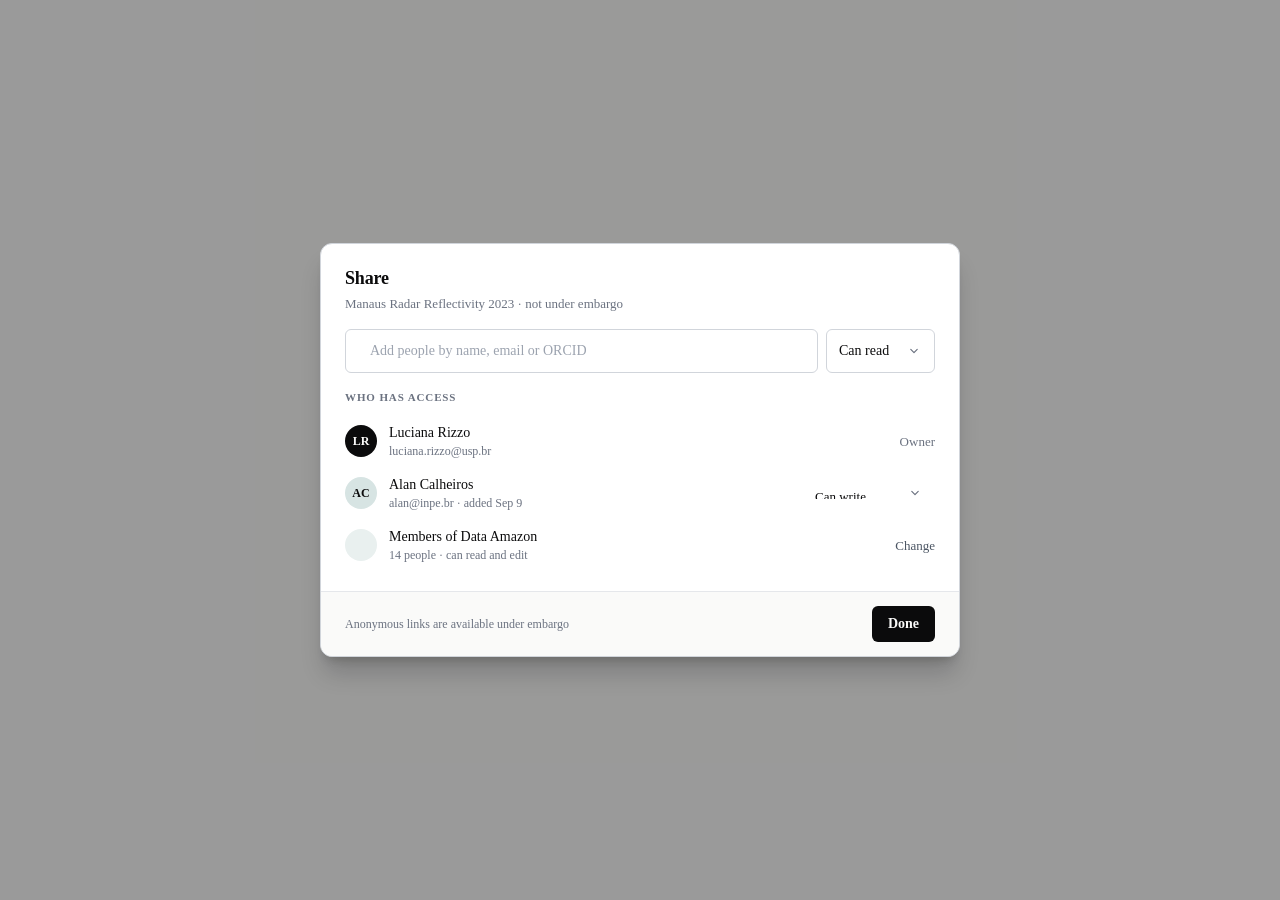
Test case: ShareDialog › a refused change is shown in the members dialog
Click the button with aria-label "Change what members of Data Amazon can do": {"x": 915, "y": 545} [895,536,935,555]
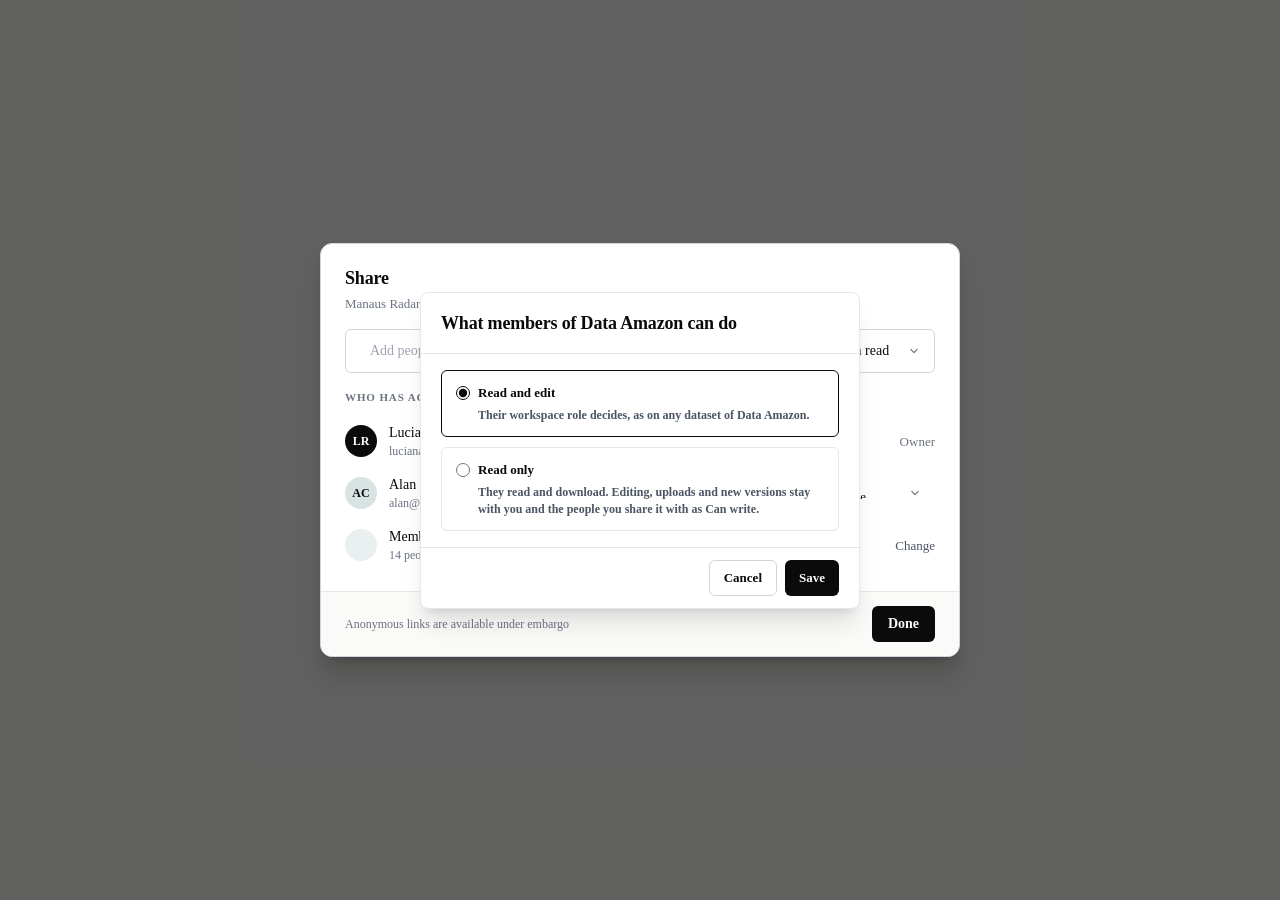
Click the button "Save": {"x": 812, "y": 578} [785,560,839,596]
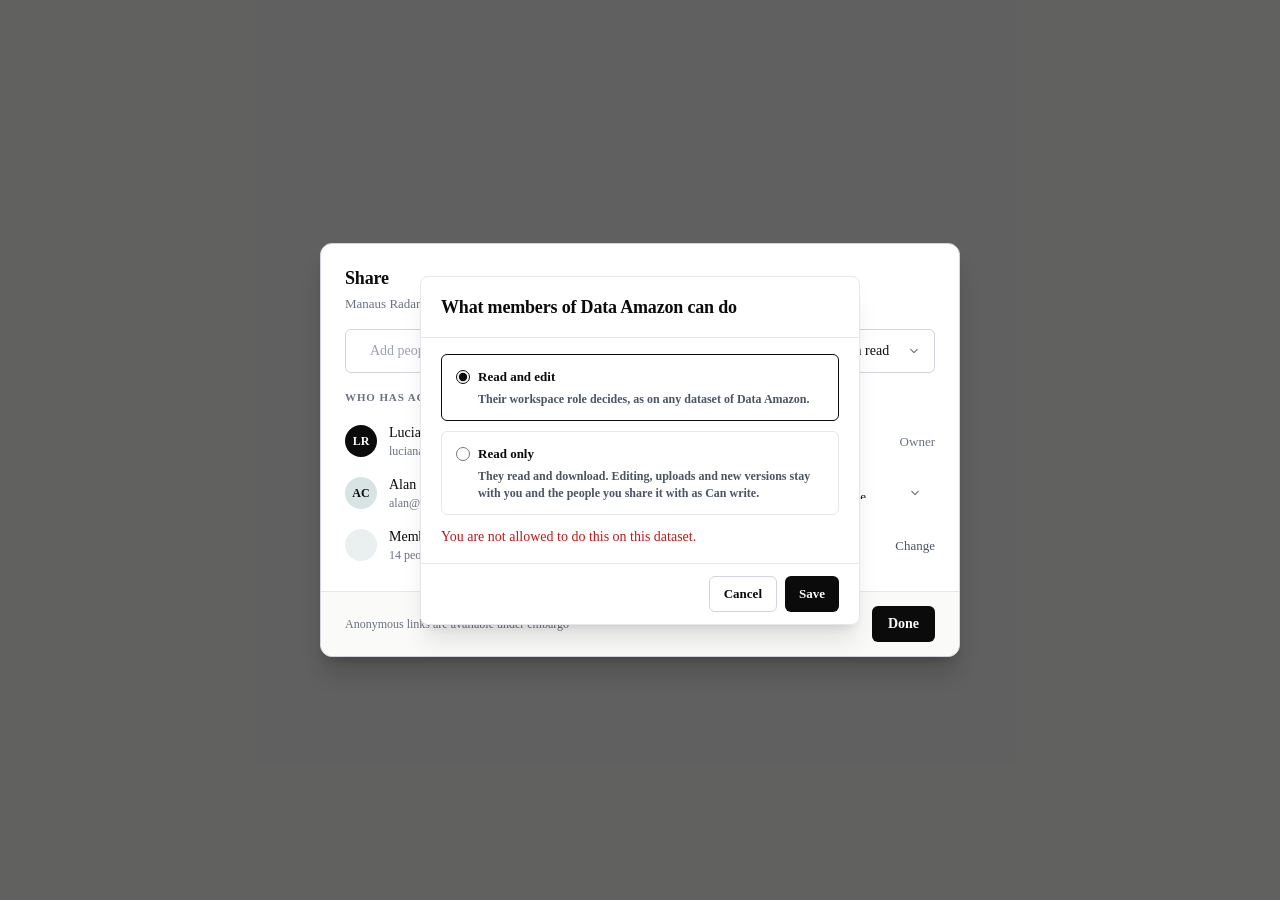
Check: the text "You are not allowed to do this on this dataset." is shown, box [441,528,696,544]
